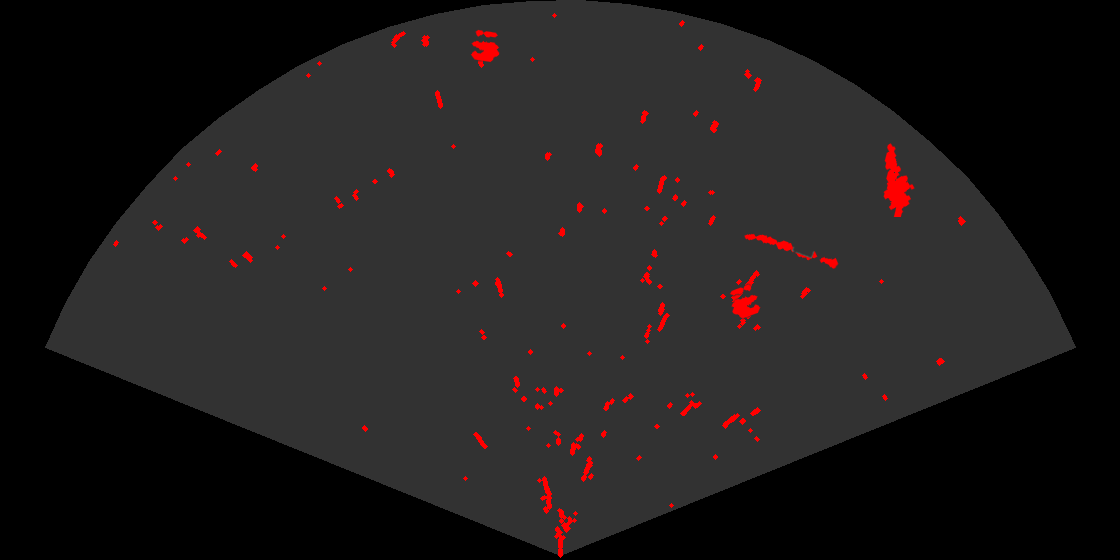ball: (728, 283, 762, 320), (469, 28, 501, 64)
chain: (743, 232, 840, 270)
frogman: (882, 142, 916, 217)
